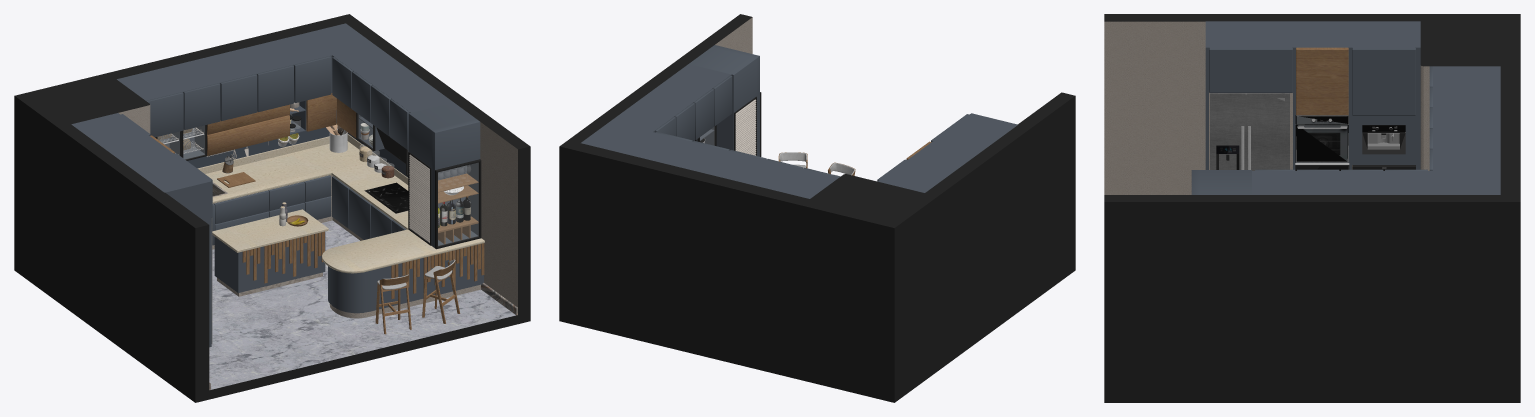
Rendered from kitchen-sd.glb.
3 views of the same model, side by side, from view 1: azimuth 30°, elevation 25°; view 2: azimuth 150°, elevation 25°; view 3: azimuth 270°, elevation 25° (orthographic). The views are drawn at different scales.
Visible parts, largest first — view 1: Walls_Black_0, Cabinets_Closet_0, Walls_Floor_0, Cabinets_Countertop_0, WoodCabinet_OakWood_0, Walls_White_0, GlassC_Glass_0, Island_Closet_0, Island_Countertop_0, Stool_OakWood_0, Walls_ClosetGlossy_0, Vent_Chrome_0 (+4 smaller); view 2: Walls_Black_0, Cabinets_Closet_0, Vent_Chrome_0, Walls_White_0, Stool_M_12_s21_0; view 3: Walls_Black_0, Cabinets_Closet_0, Walls_White_0, RLF_74925_Aluminum_0, WoodCabinet_OakWood_0, HLB_840_Black_Metal_0, HLB_840_Front.001_0, CLC855_URBAN_Grey_0, HLB_840_Brushed_Metal1_0, CLC855_URBAN_Night_River_Black_Front_0.
Part boxes in pixels (x1=…): Walls_Black_0: x1=14, y1=14, x2=530, y2=402; Cabinets_Closet_0: x1=71, y1=23, x2=483, y2=347; Walls_Floor_0: x1=209, y1=220, x2=515, y2=389; Cabinets_Countertop_0: x1=197, y1=134, x2=484, y2=273; WoodCabinet_OakWood_0: x1=150, y1=93, x2=484, y2=298; Walls_White_0: x1=118, y1=105, x2=517, y2=307; GlassC_Glass_0: x1=158, y1=114, x2=478, y2=245; Island_Closet_0: x1=214, y1=232, x2=325, y2=292; Island_Countertop_0: x1=212, y1=209, x2=328, y2=252; Stool_OakWood_0: x1=375, y1=259, x2=460, y2=334; Walls_ClosetGlossy_0: x1=187, y1=127, x2=408, y2=177; Vent_Chrome_0: x1=409, y1=154, x2=429, y2=242; Walls_Black_0: x1=559, y1=14, x2=1075, y2=402; Cabinets_Closet_0: x1=581, y1=45, x2=1017, y2=198; Vent_Chrome_0: x1=735, y1=99, x2=756, y2=155; Walls_White_0: x1=715, y1=17, x2=752, y2=53; Stool_M_12_s21_0: x1=779, y1=152, x2=854, y2=176; Walls_Black_0: x1=1104, y1=14, x2=1520, y2=402; Cabinets_Closet_0: x1=1191, y1=21, x2=1500, y2=194; Walls_White_0: x1=1104, y1=21, x2=1429, y2=194; RLF_74925_Aluminum_0: x1=1210, y1=93, x2=1289, y2=170; WoodCabinet_OakWood_0: x1=1296, y1=47, x2=1348, y2=115; HLB_840_Black_Metal_0: x1=1295, y1=115, x2=1348, y2=162; HLB_840_Front.001_0: x1=1295, y1=116, x2=1348, y2=161; CLC855_URBAN_Grey_0: x1=1367, y1=133, x2=1399, y2=149; HLB_840_Brushed_Metal1_0: x1=1296, y1=115, x2=1348, y2=162; CLC855_URBAN_Night_River_Black_Front_0: x1=1362, y1=133, x2=1405, y2=154.
Size of the model in its own units: 6.57 by 3.27 by 6.14.
93 materials, 43 textured.
